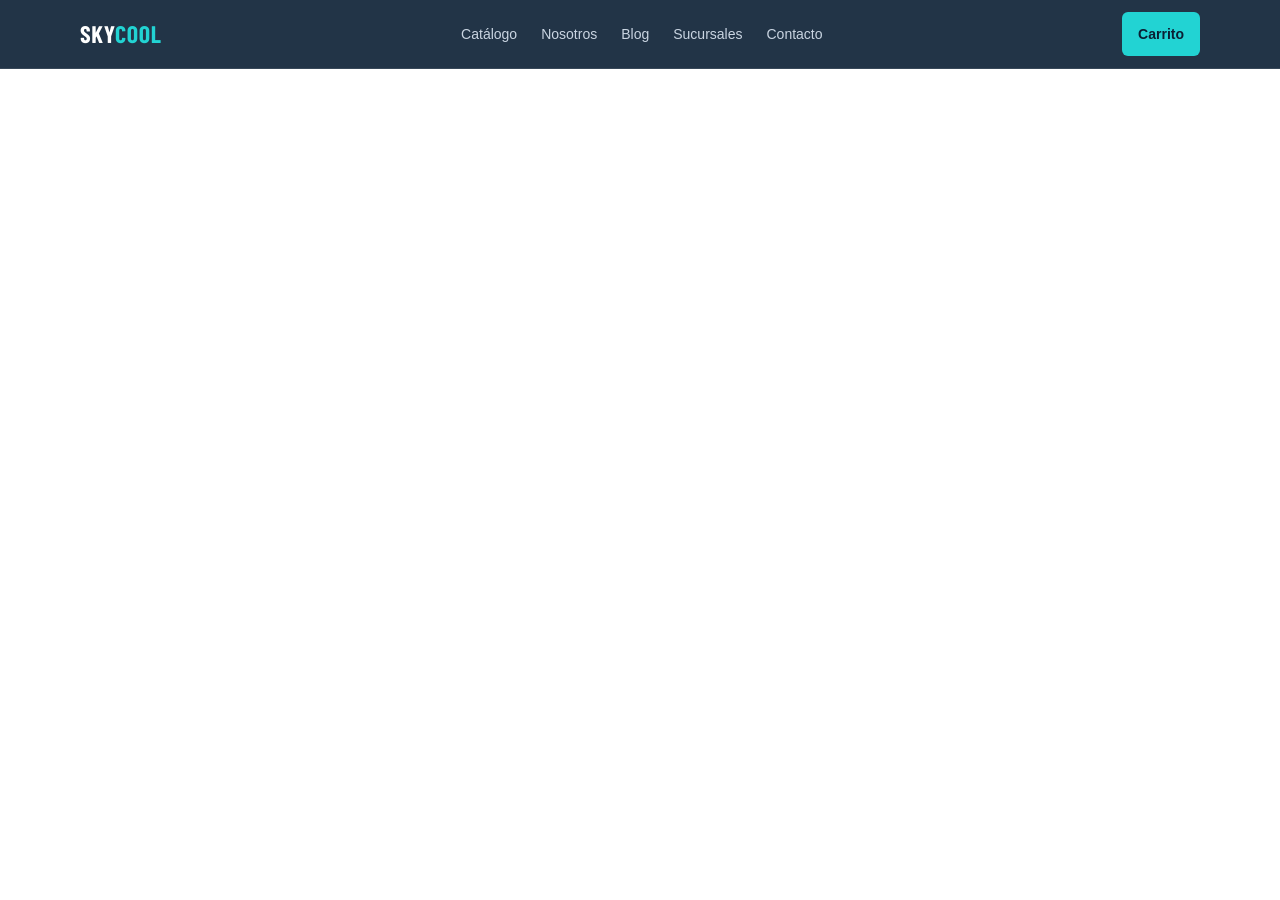
Scenario: Header › abre el carrito al hacer click en el botón Carrito
Click the button "Carrito" at (1161, 34), box x1=1122 y1=12 x2=1200 y2=56
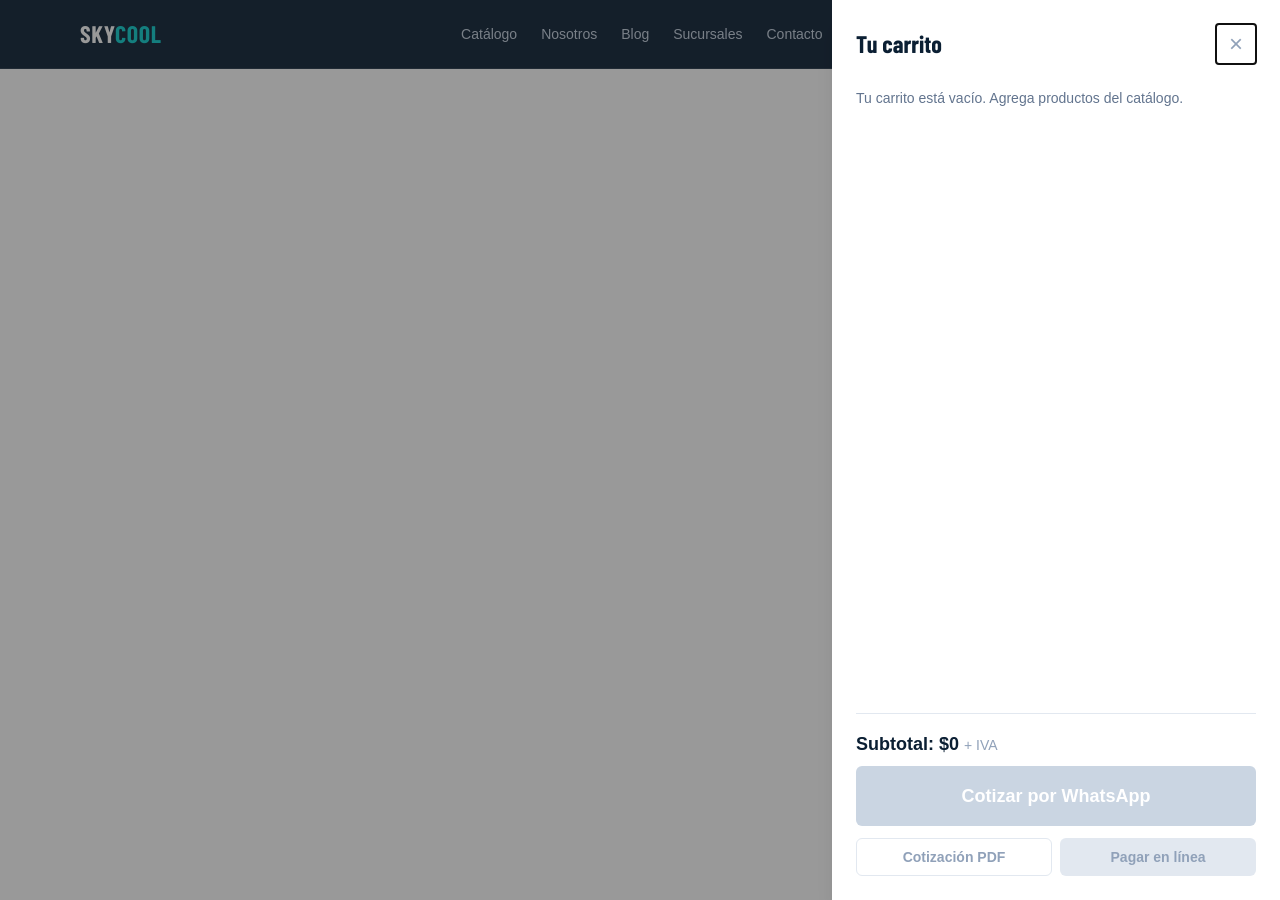
Check: the dialog is shown
